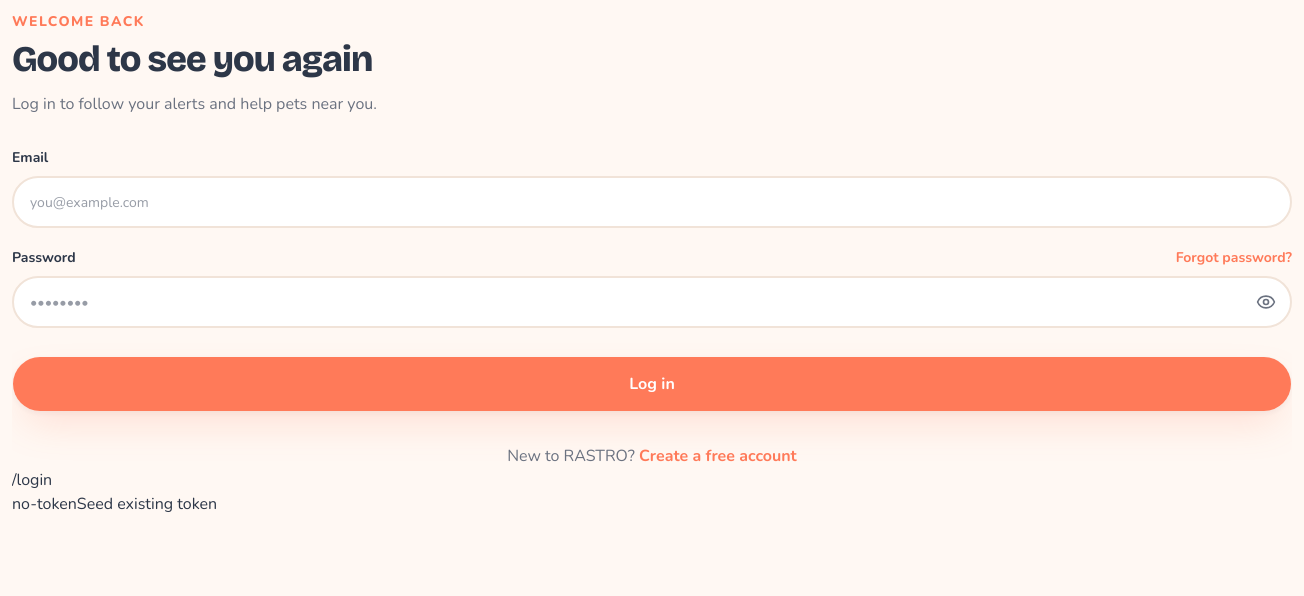
it: LoginForm › stores the returned token, announces success and does not navigate
Type "person@example.com" into the field labelled "Email".
click(652, 202); type("person@example.com")  # box top-left (12, 176), bottom-right (1292, 228)
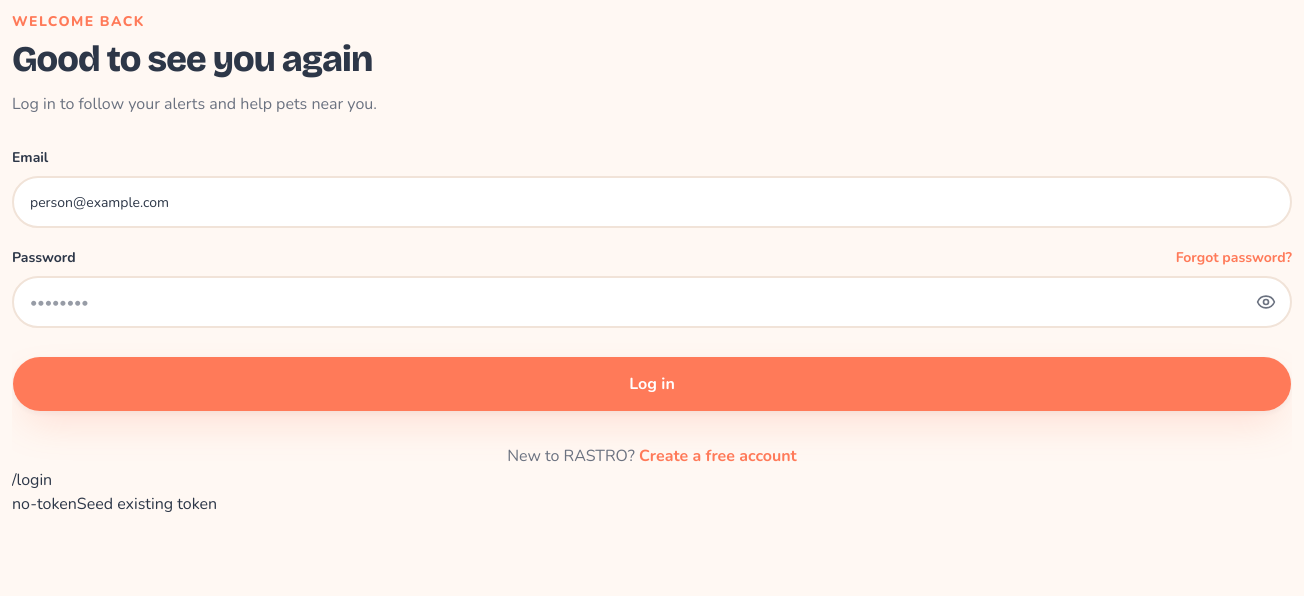
Type " x " into the password field labelled "Password".
click(652, 302); type(" x ")  # box top-left (12, 276), bottom-right (1292, 328)
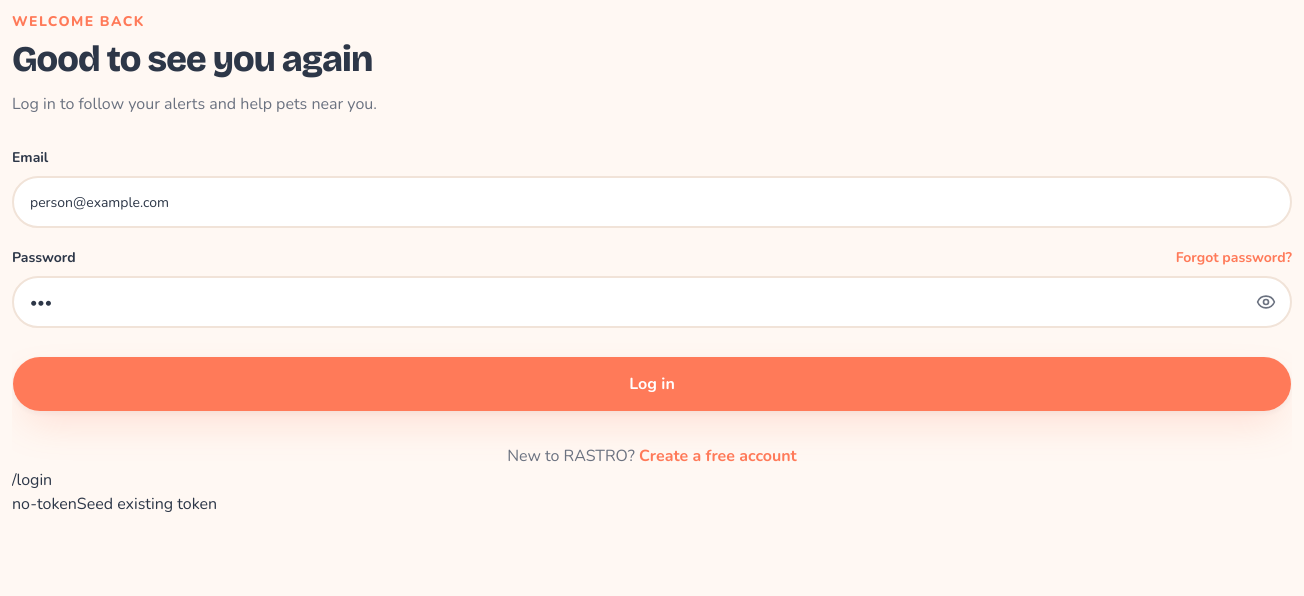
Submit the form, box top-left (12, 148), bottom-right (1292, 412)
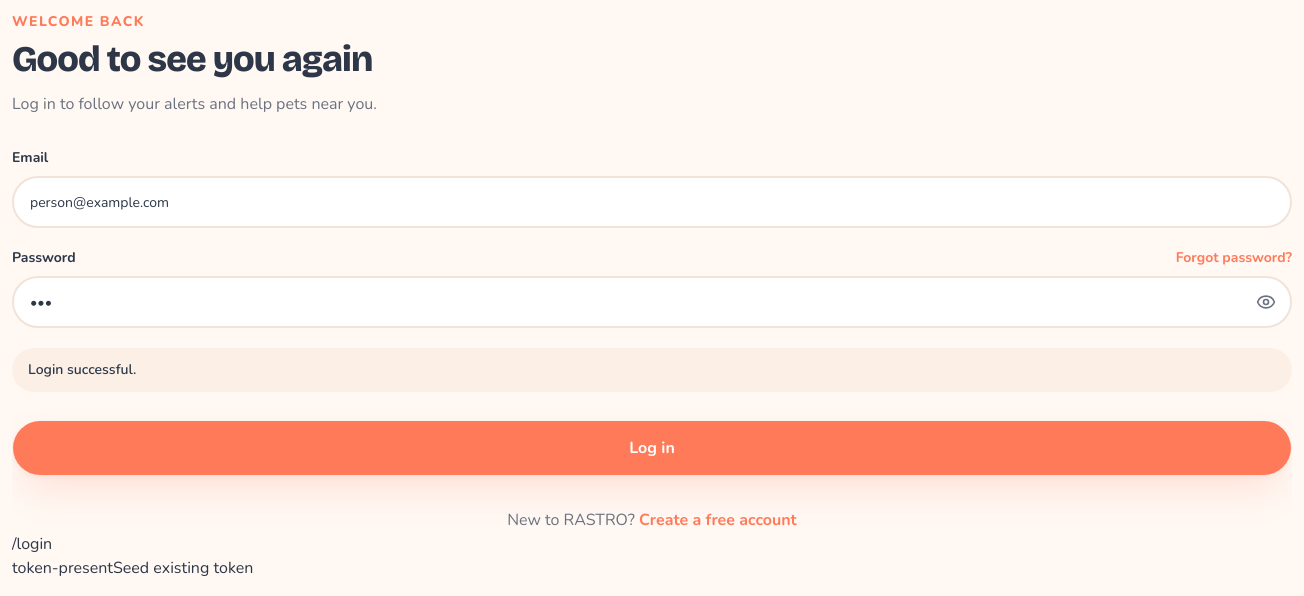
expect the text with test id "current-path" reads "/login": met, box top-left (12, 533), bottom-right (52, 555)
expect the message reads "Login successful.": met, box top-left (28, 360), bottom-right (136, 379)
expect the text with test id "auth-state" reads "token-present": met, box top-left (12, 557), bottom-right (113, 579)
